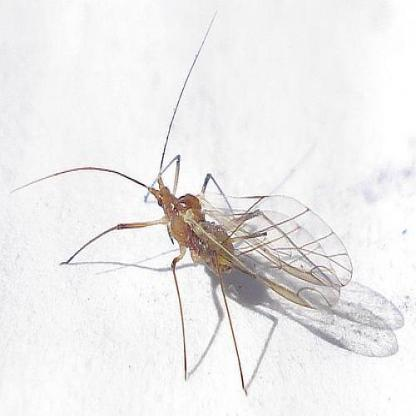aphid: (19, 19, 362, 390)
